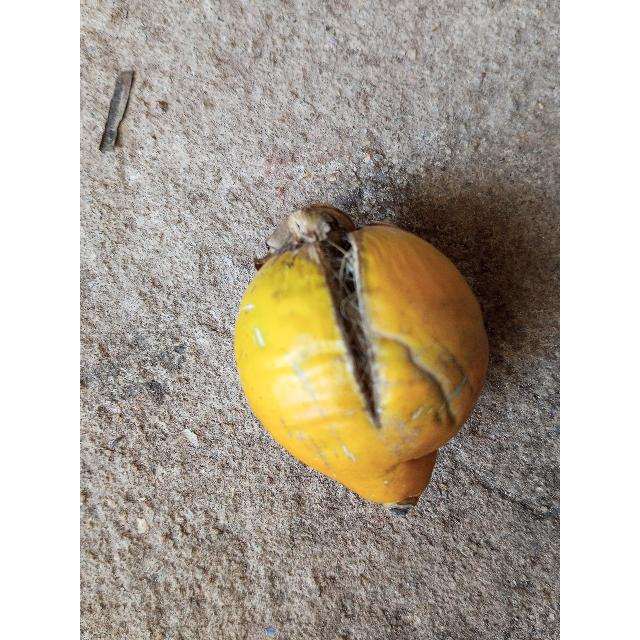damaged: (235, 203, 488, 512)
